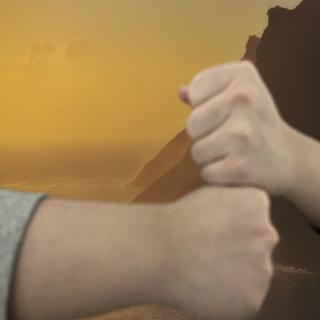CAREFUL: (51, 60, 320, 318)
